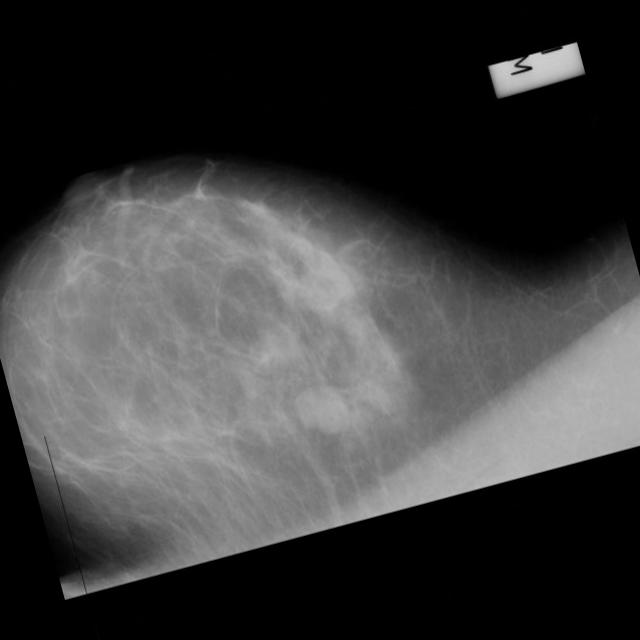CIRC: (284, 374, 359, 448)
